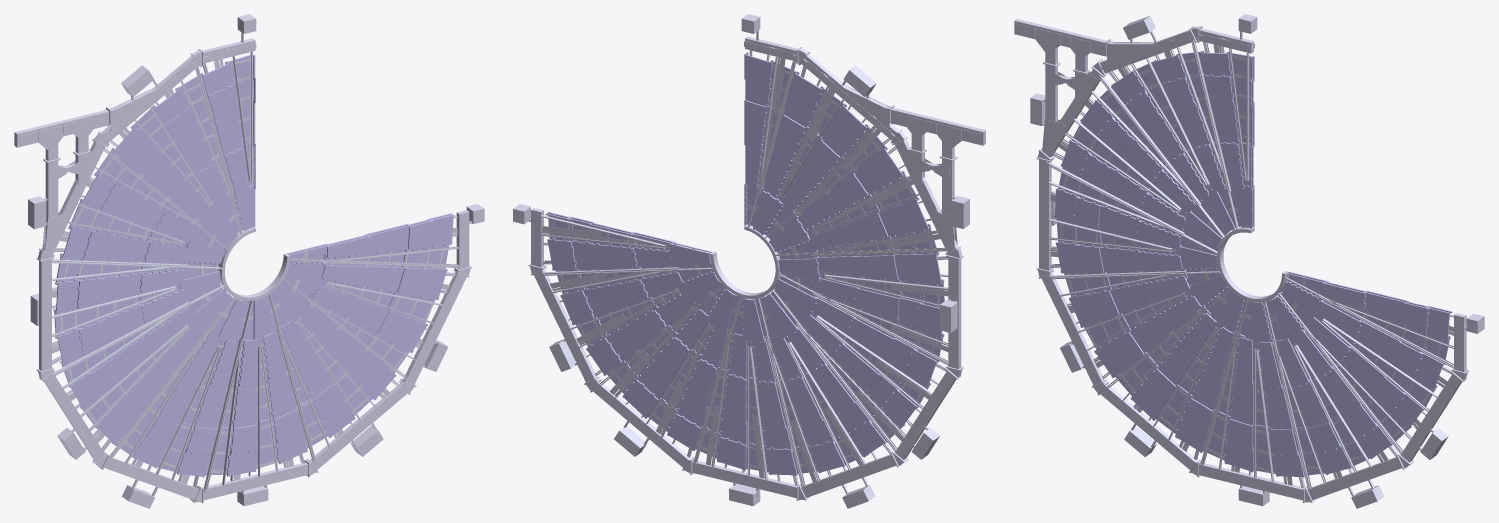
The model's file is TGC-SideA-cut3.glb.
3 views of the same model, side by side, from view 1: azimuth 30°, elevation 25°; view 2: azimuth 150°, elevation 25°; view 3: azimuth 330°, elevation 25° (orthographic).
Parts seen in each view (by area): view 1: S__2BDB9588, S__2D10D4C8; view 2: S__2BDB9588, S__2D10D4C8; view 3: S__2BDB9588, S__2D10D4C8.
Boxes of the visible parts, x1,y1,x2,y2 form: S__2BDB9588: (53, 54, 454, 477); S__2D10D4C8: (14, 14, 484, 508); S__2BDB9588: (545, 52, 944, 475); S__2D10D4C8: (513, 14, 985, 508); S__2BDB9588: (1054, 50, 1452, 477); S__2D10D4C8: (1014, 14, 1484, 508).
Bounding box in the file's own units: 25.18 × 24.98 × 1.08.
